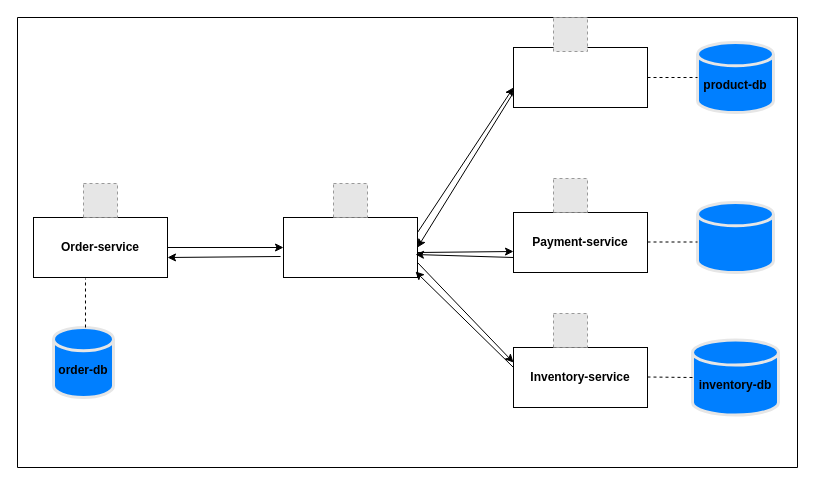
The diagram is 815 pixels wide and 485 high, and some of its shapes have lost their labels. Grey dashed boxes stand in for pictures. The shapes that lost their labels are listed below. From the top down, each one's box as (x1, y1, x2, y2) in pixels, then its label:
(512, 46, 648, 108): Product-service
(282, 216, 418, 278): Orchestrator
(696, 200, 774, 274): payment-db
